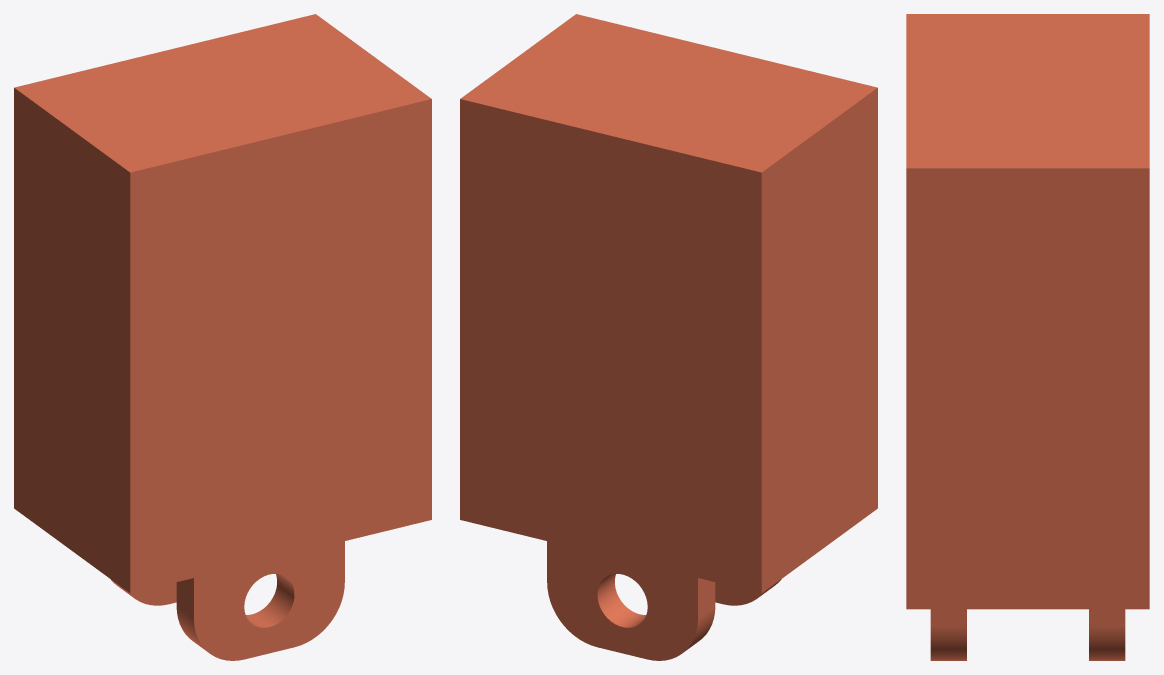
The model's file is body.dae.
The picture shows the model from 3 angles, left to right: view 1: azimuth 30°, elevation 25°; view 2: azimuth 150°, elevation 25°; view 3: azimuth 270°, elevation 25°; orthographic projection. The views are drawn at different scales.
Visible parts, largest first — view 1: ID2; view 2: ID2; view 3: ID2.
Boxes of the visible parts, bbox=[...] form: ID2: bbox=[14, 14, 431, 660]; ID2: bbox=[460, 14, 877, 660]; ID2: bbox=[906, 14, 1149, 660].
Size of the model in its own units: 0.15 by 0.1 by 0.25.
